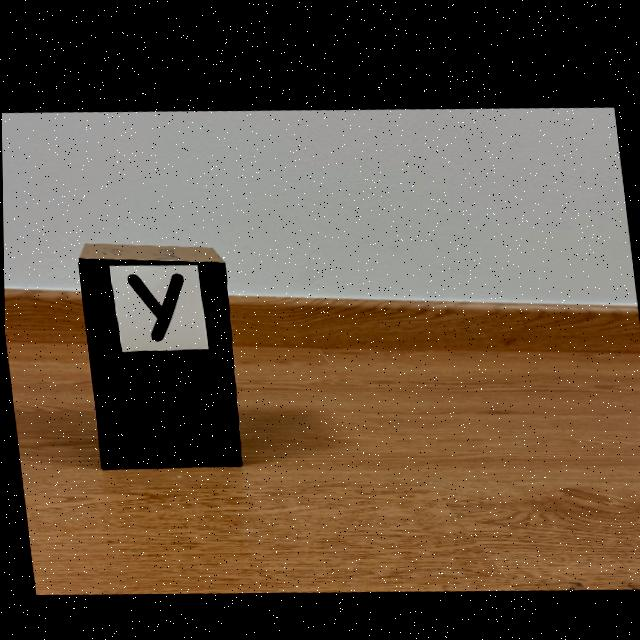Y: (126, 269, 183, 338)
